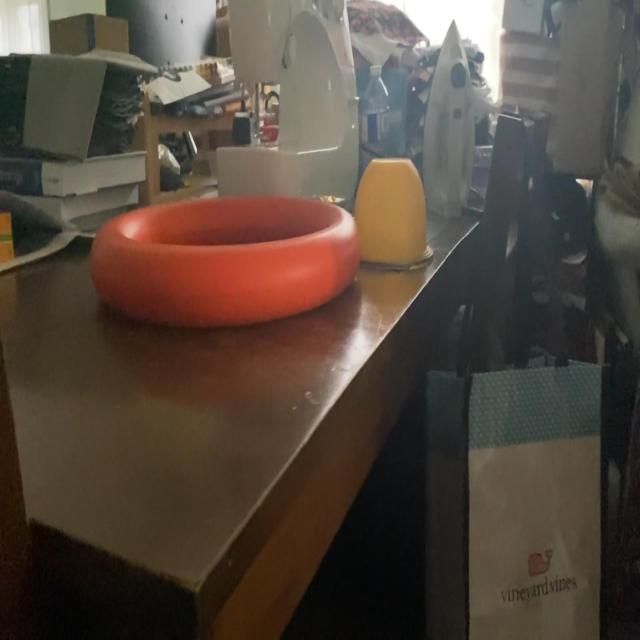note: (86, 190, 365, 330)
